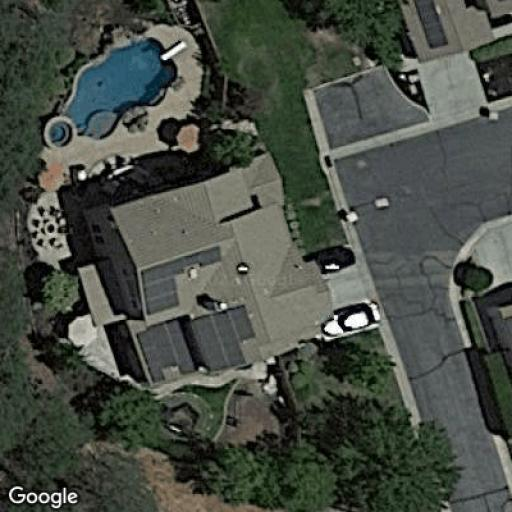solar-panel: (141, 246, 222, 316), (190, 304, 255, 375), (137, 314, 197, 386), (414, 0, 450, 49)
